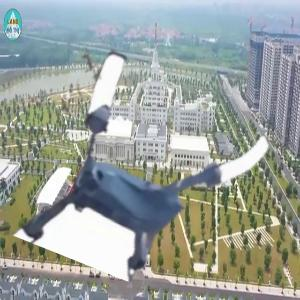drone: (43, 63, 265, 285)
